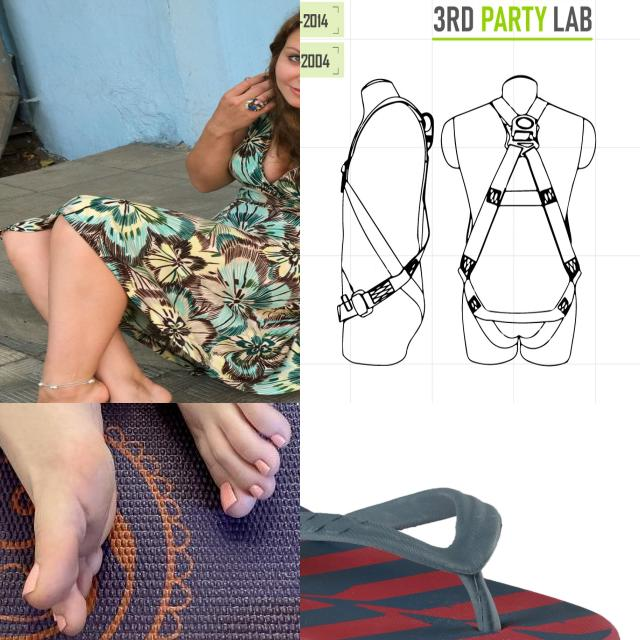Barefoots: (0, 403, 139, 640), (125, 403, 300, 528), (21, 377, 109, 403), (105, 383, 172, 403)
Harness: (458, 104, 580, 354), (338, 93, 436, 340)
Sandals: (300, 473, 622, 640)
